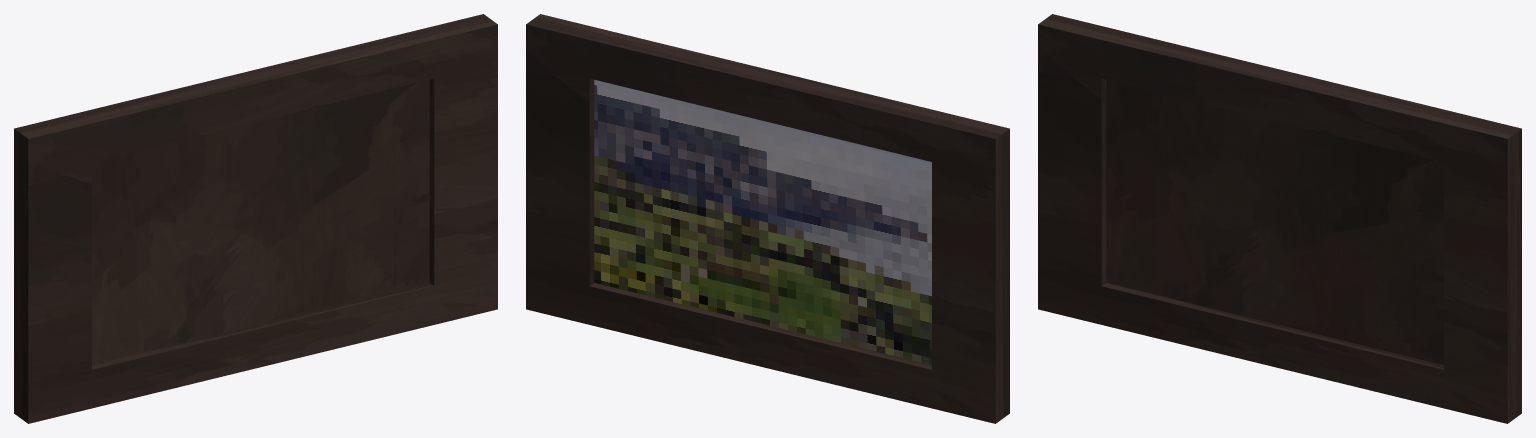
The model's file is M-PFHanging4.fbx.
3 views of the same model, side by side, from view 1: azimuth 30°, elevation 25°; view 2: azimuth 150°, elevation 25°; view 3: azimuth 330°, elevation 25° (orthographic).
Parts seen in each view (by area): view 1: Cube; view 2: Cube; view 3: Cube.
Boxes of the visible parts, bbox=[...] form: Cube: bbox=[14, 14, 497, 423]; Cube: bbox=[526, 14, 1009, 423]; Cube: bbox=[1038, 14, 1521, 423].
Bounding box in the file's own units: 117 × 6.16 × 67.78.
1 material, 1 textured.
